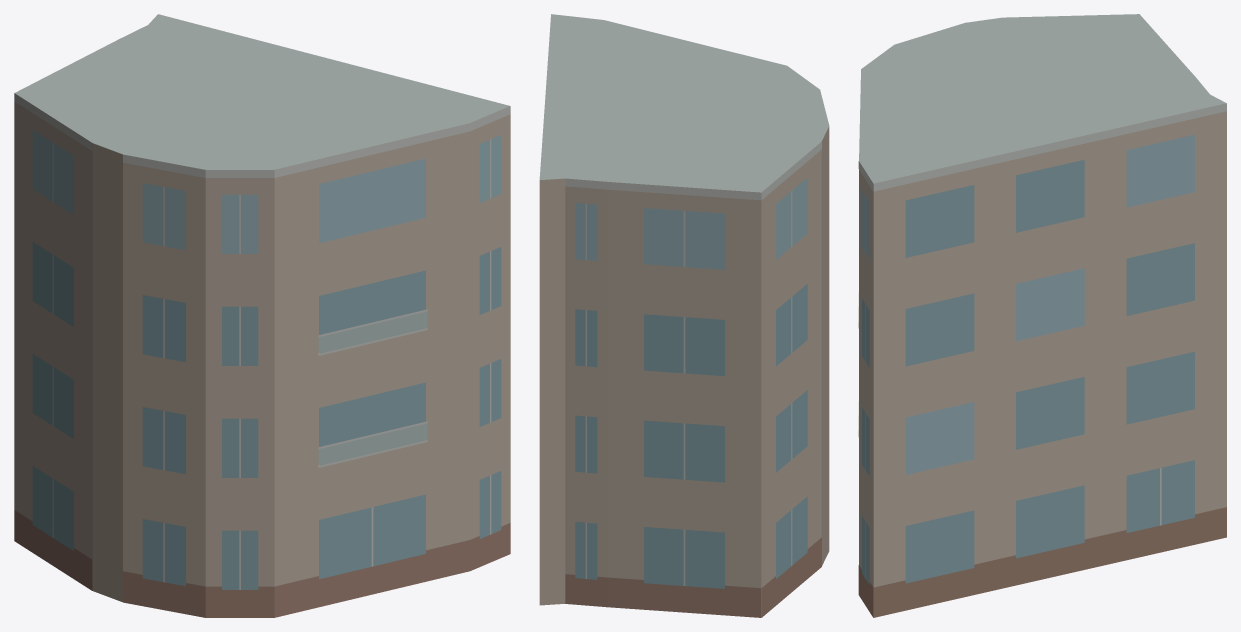
Rendered from survey-upis-32462325.glb.
3 views of the same model, side by side, from view 1: azimuth 30°, elevation 25°; view 2: azimuth 150°, elevation 25°; view 3: azimuth 270°, elevation 25° (orthographic). The views are drawn at different scales.
Visible parts, largest first — view 1: survey-upis-32462325.tmp; view 2: survey-upis-32462325.tmp; view 3: survey-upis-32462325.tmp.
Boxes of the visible parts, x1,y1,x2,y2 form: survey-upis-32462325.tmp: (14, 14, 510, 617); survey-upis-32462325.tmp: (539, 14, 829, 617); survey-upis-32462325.tmp: (858, 14, 1226, 617).
Size of the model in its own units: 11.16 by 13.3 by 10.24.
